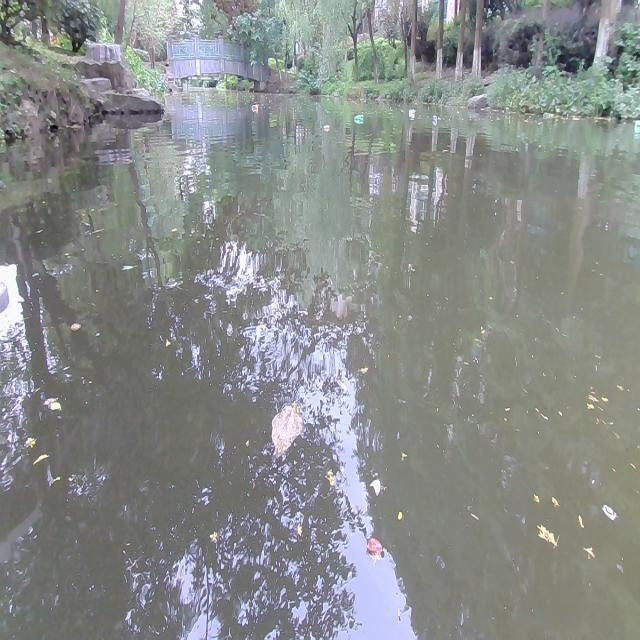bottle: (353, 110, 363, 119), (248, 103, 258, 111), (322, 124, 328, 134), (431, 114, 438, 121), (406, 108, 414, 113)
